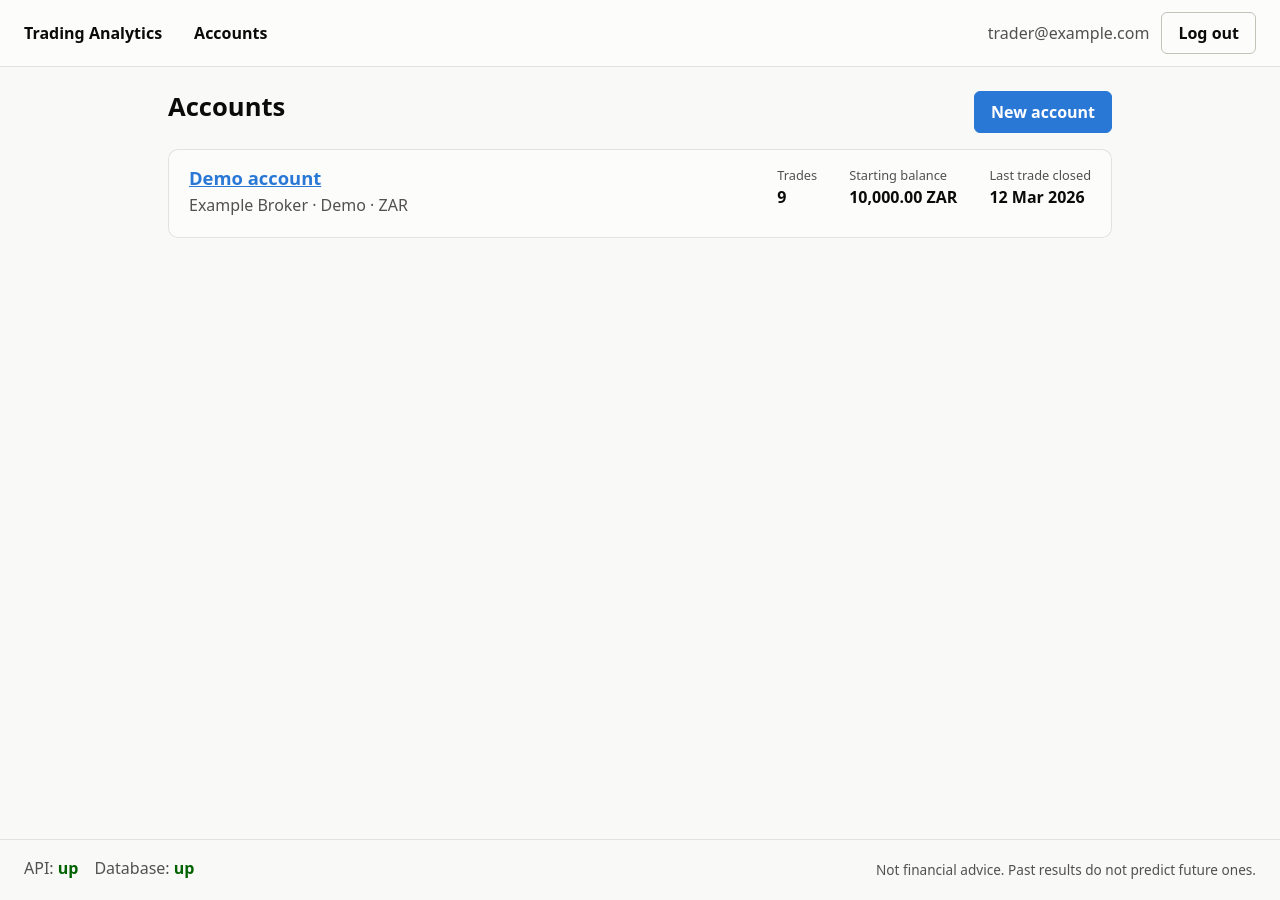
Scenario: logging in › log out clears the token and returns to the login page
The image size is (1280, 900).
Check: the text "trader@example.com" is shown, box [988,21,1149,45]
What coordinates should you click on to do the following:
click the button "Log out"
I would click on:
 (1209, 33)
Its box is [1161,12,1256,54].
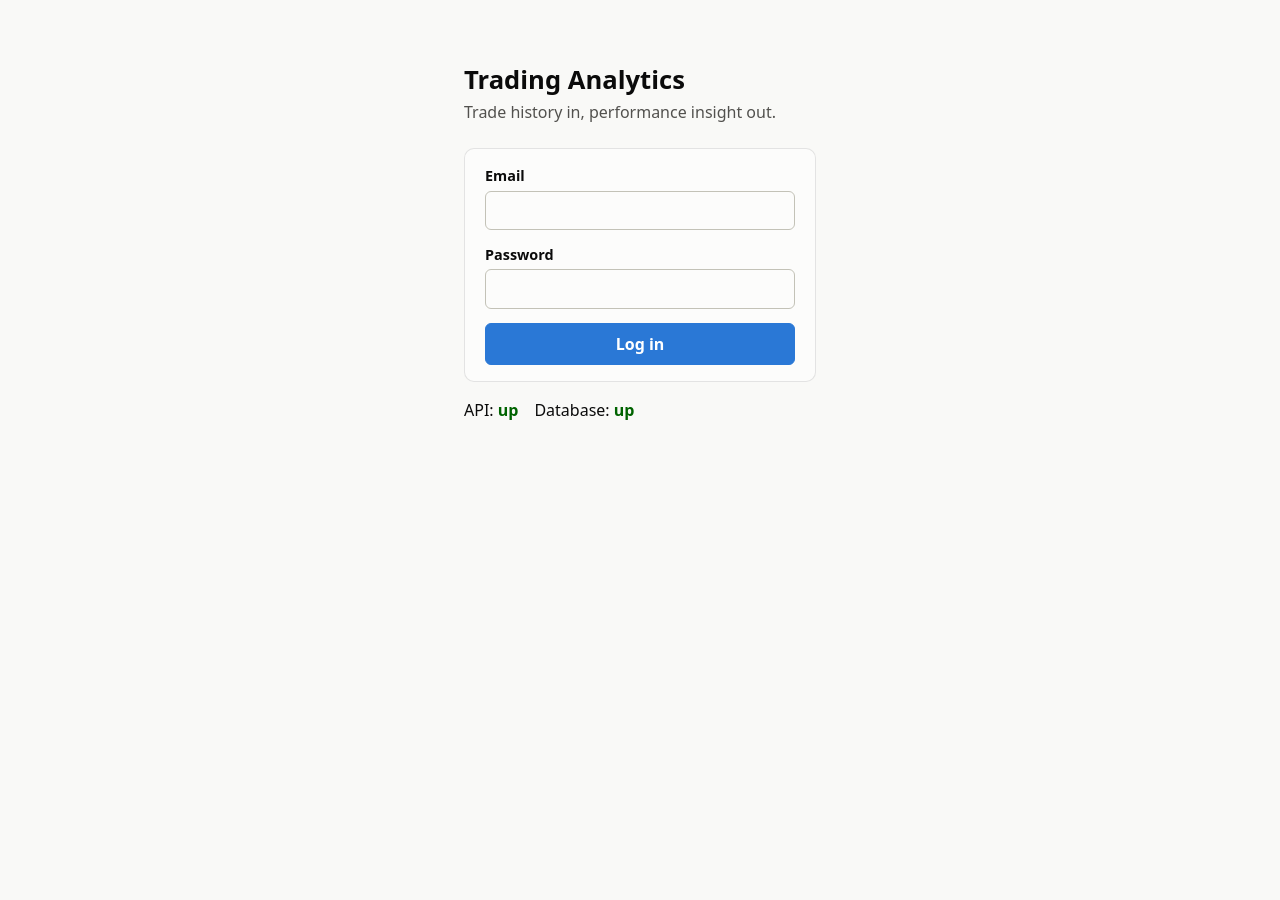
Check: the form "Log in" is shown, box [464,148,816,382]
